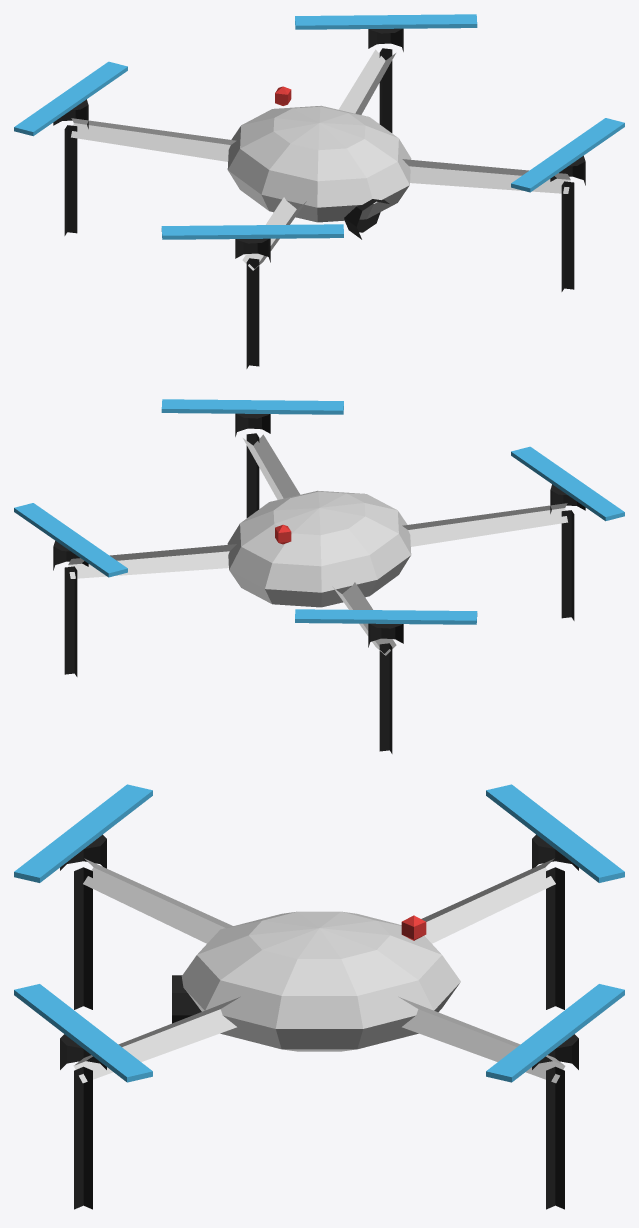
File: dronare.glb
The picture shows the model from 3 angles, top to bottom: view 1: azimuth 30°, elevation 25°; view 2: azimuth 150°, elevation 25°; view 3: azimuth 270°, elevation 25°; orthographic projection. The views are drawn at different scales.
Parts seen in each view (by area): view 1: dronare; view 2: dronare; view 3: dronare.
Part boxes in pixels (left/top/right/bottom): dronare: left=14, top=14, right=624, bottom=368; dronare: left=14, top=399, right=624, bottom=753; dronare: left=14, top=784, right=624, bottom=1209.
Size of the model in its own units: 0.5875 by 0.182 by 0.5179.
